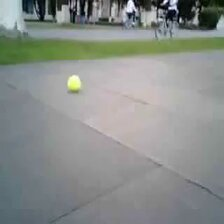tennis: (67, 75, 82, 92)
